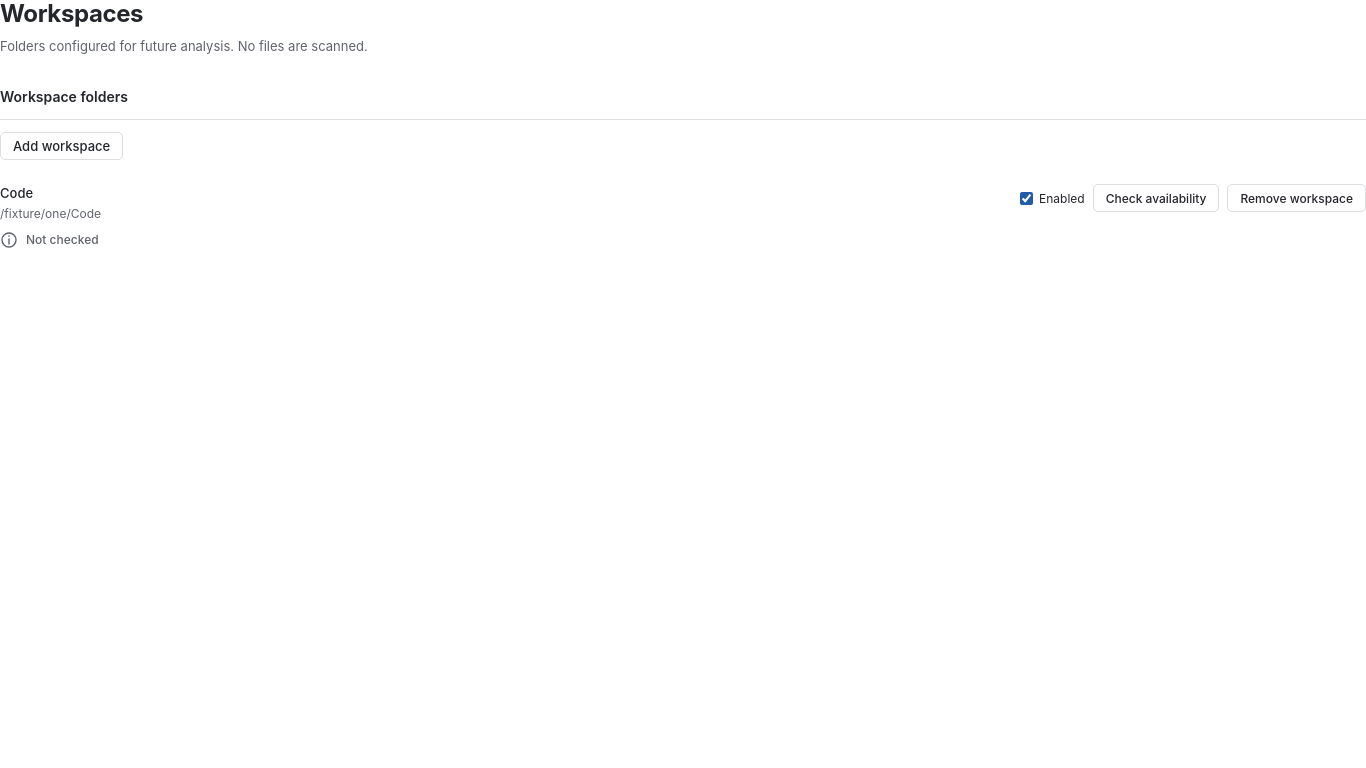
Test case: Workspaces view › gates uncertain mutation retries until a successful reload and recovers focus when removal committed
This screenshot has width=1366, height=768.
Click the button "Remove workspace".
click(1297, 198)  # box [1227,184,1365,212]
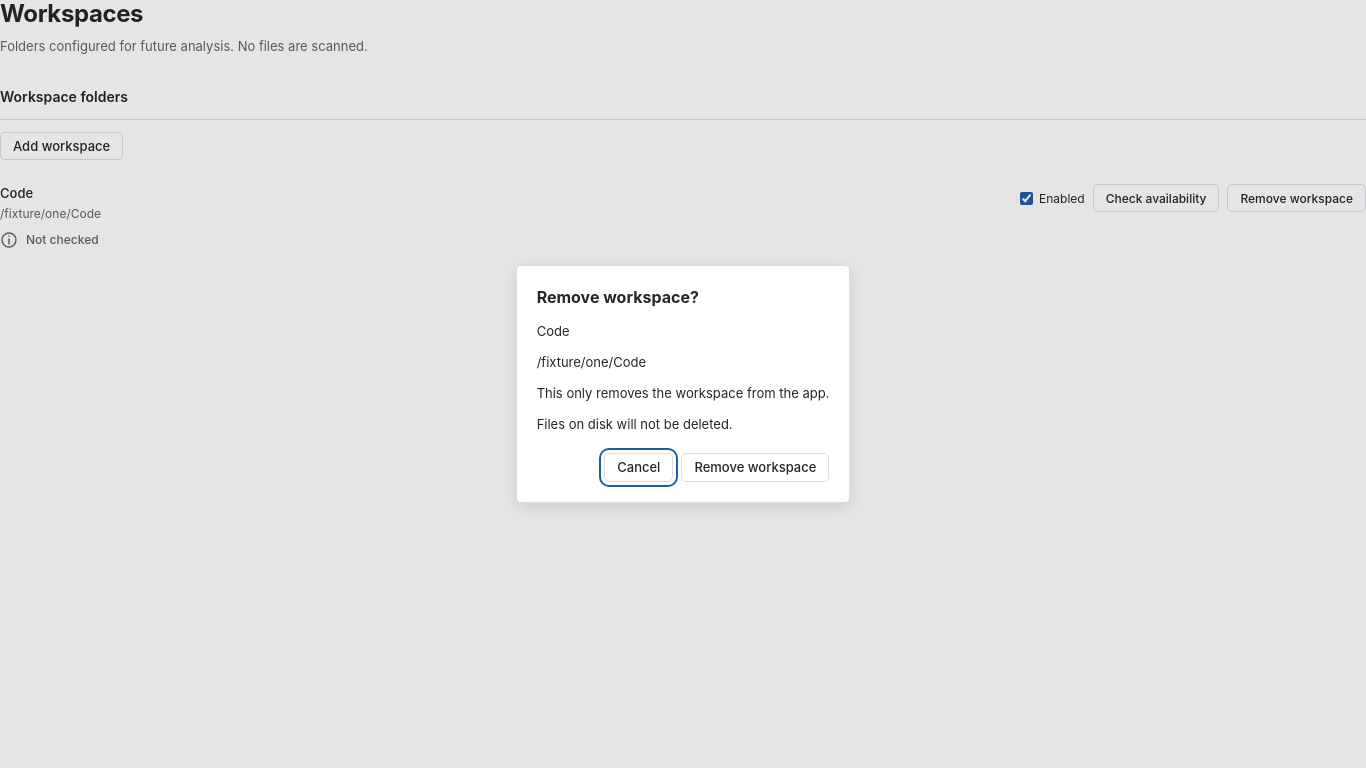
Click the button "Remove workspace".
click(755, 468)  # box [681,454,829,482]
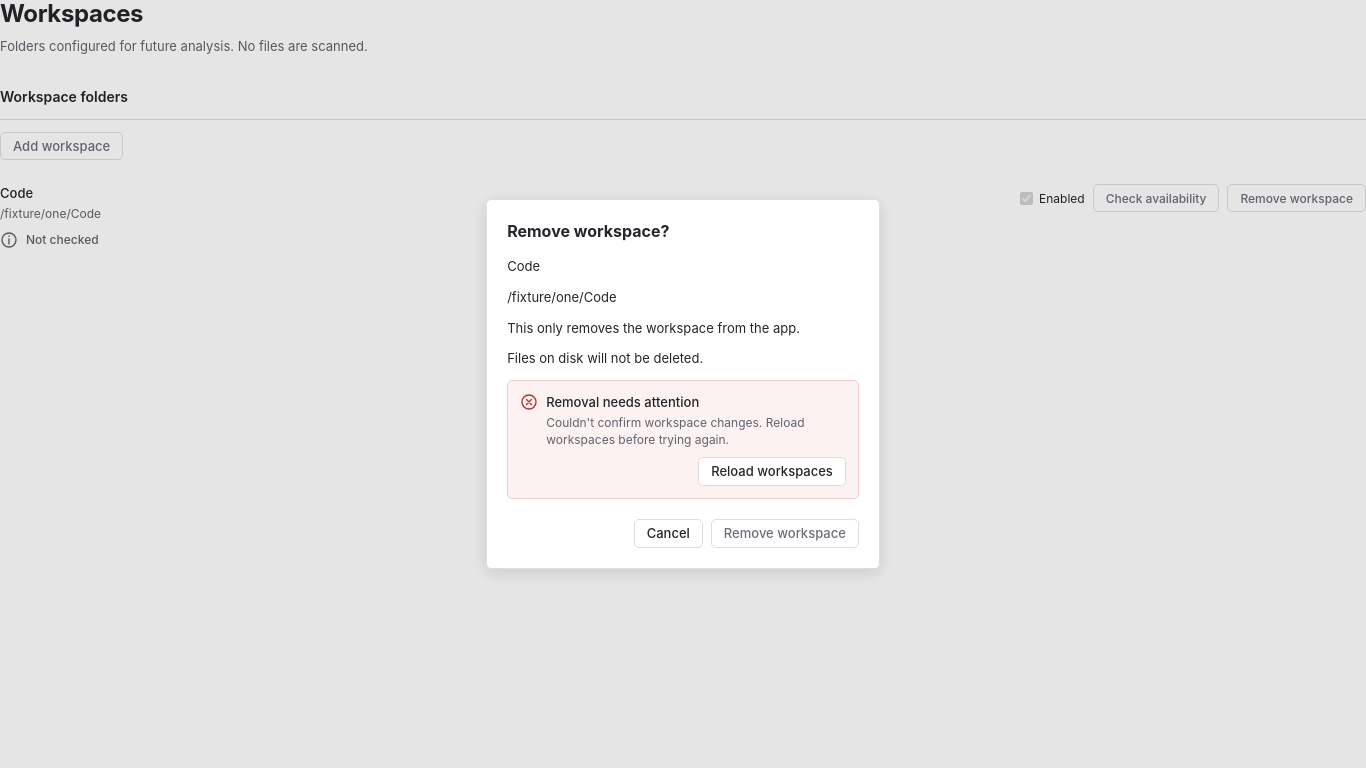
Check: the message shows "Reload workspaces before trying again.", box [546,415,805,448]
Check: the button "Reload workspaces" is enabled
Check: the button "Remove workspace" is disabled, box [711,519,859,548]
Click the button "Reload workspaces".
click(772, 471)  # box [698,457,846,486]
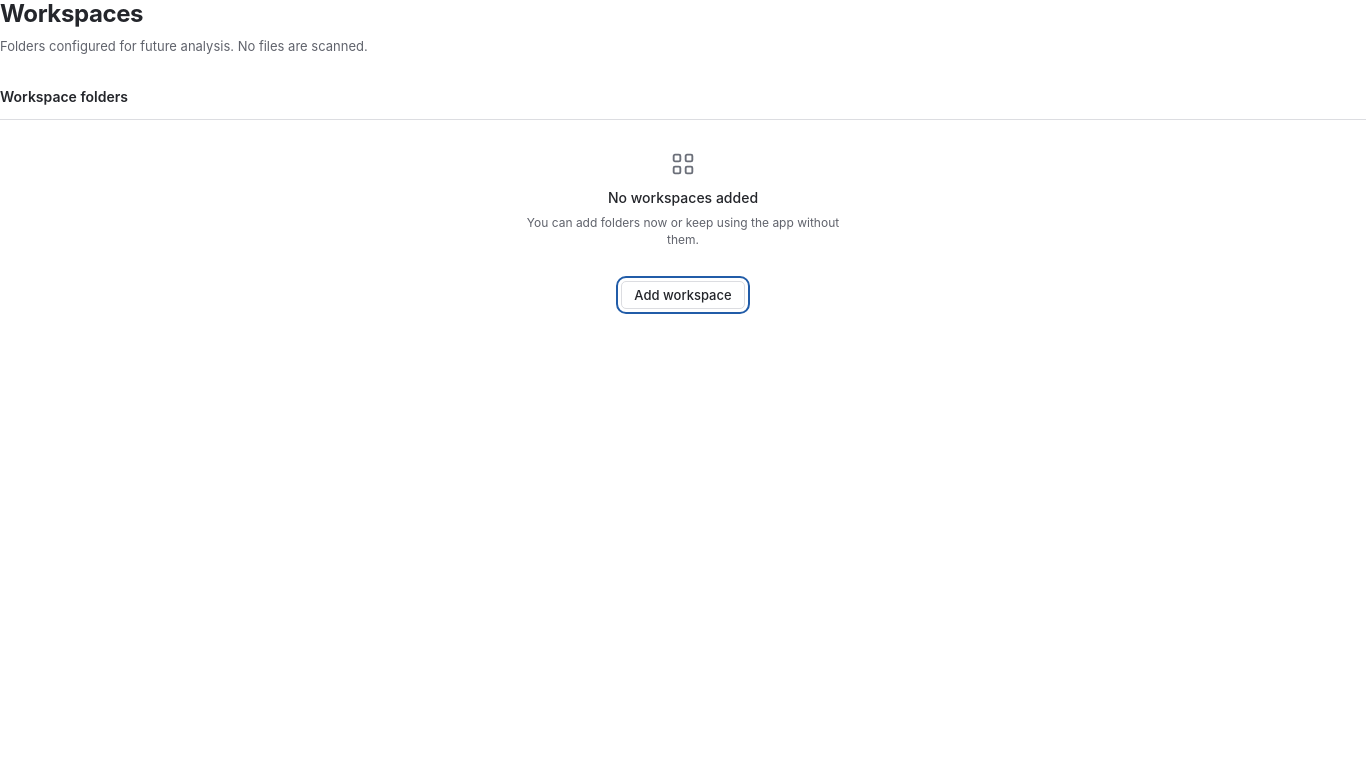
Check: the dialog is gone
